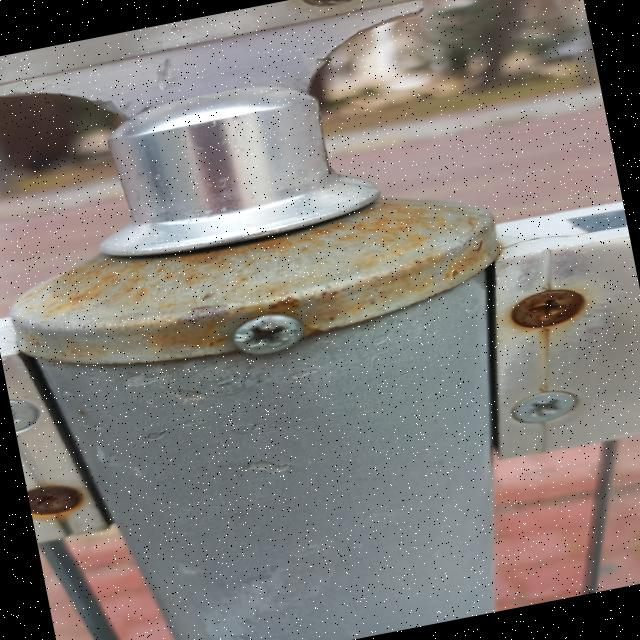Phillips: (506, 282, 589, 342), (506, 386, 576, 429)
Pozidriv: (229, 308, 304, 358)
